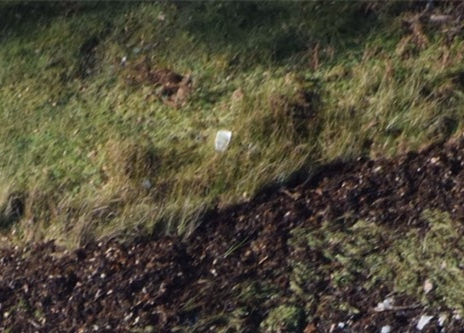white_in_green: (195, 113, 248, 163)
